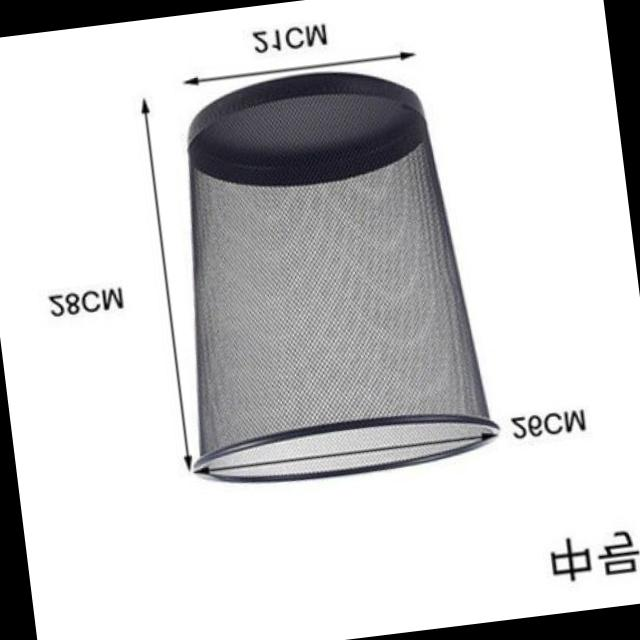dustbin: (144, 54, 513, 502)
